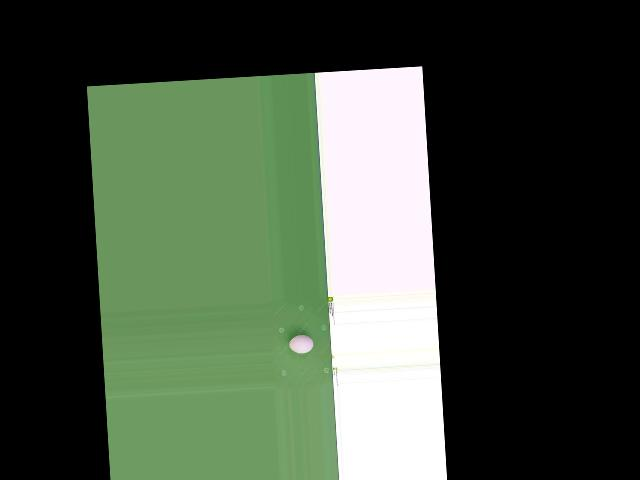egg: (289, 334, 314, 354)
